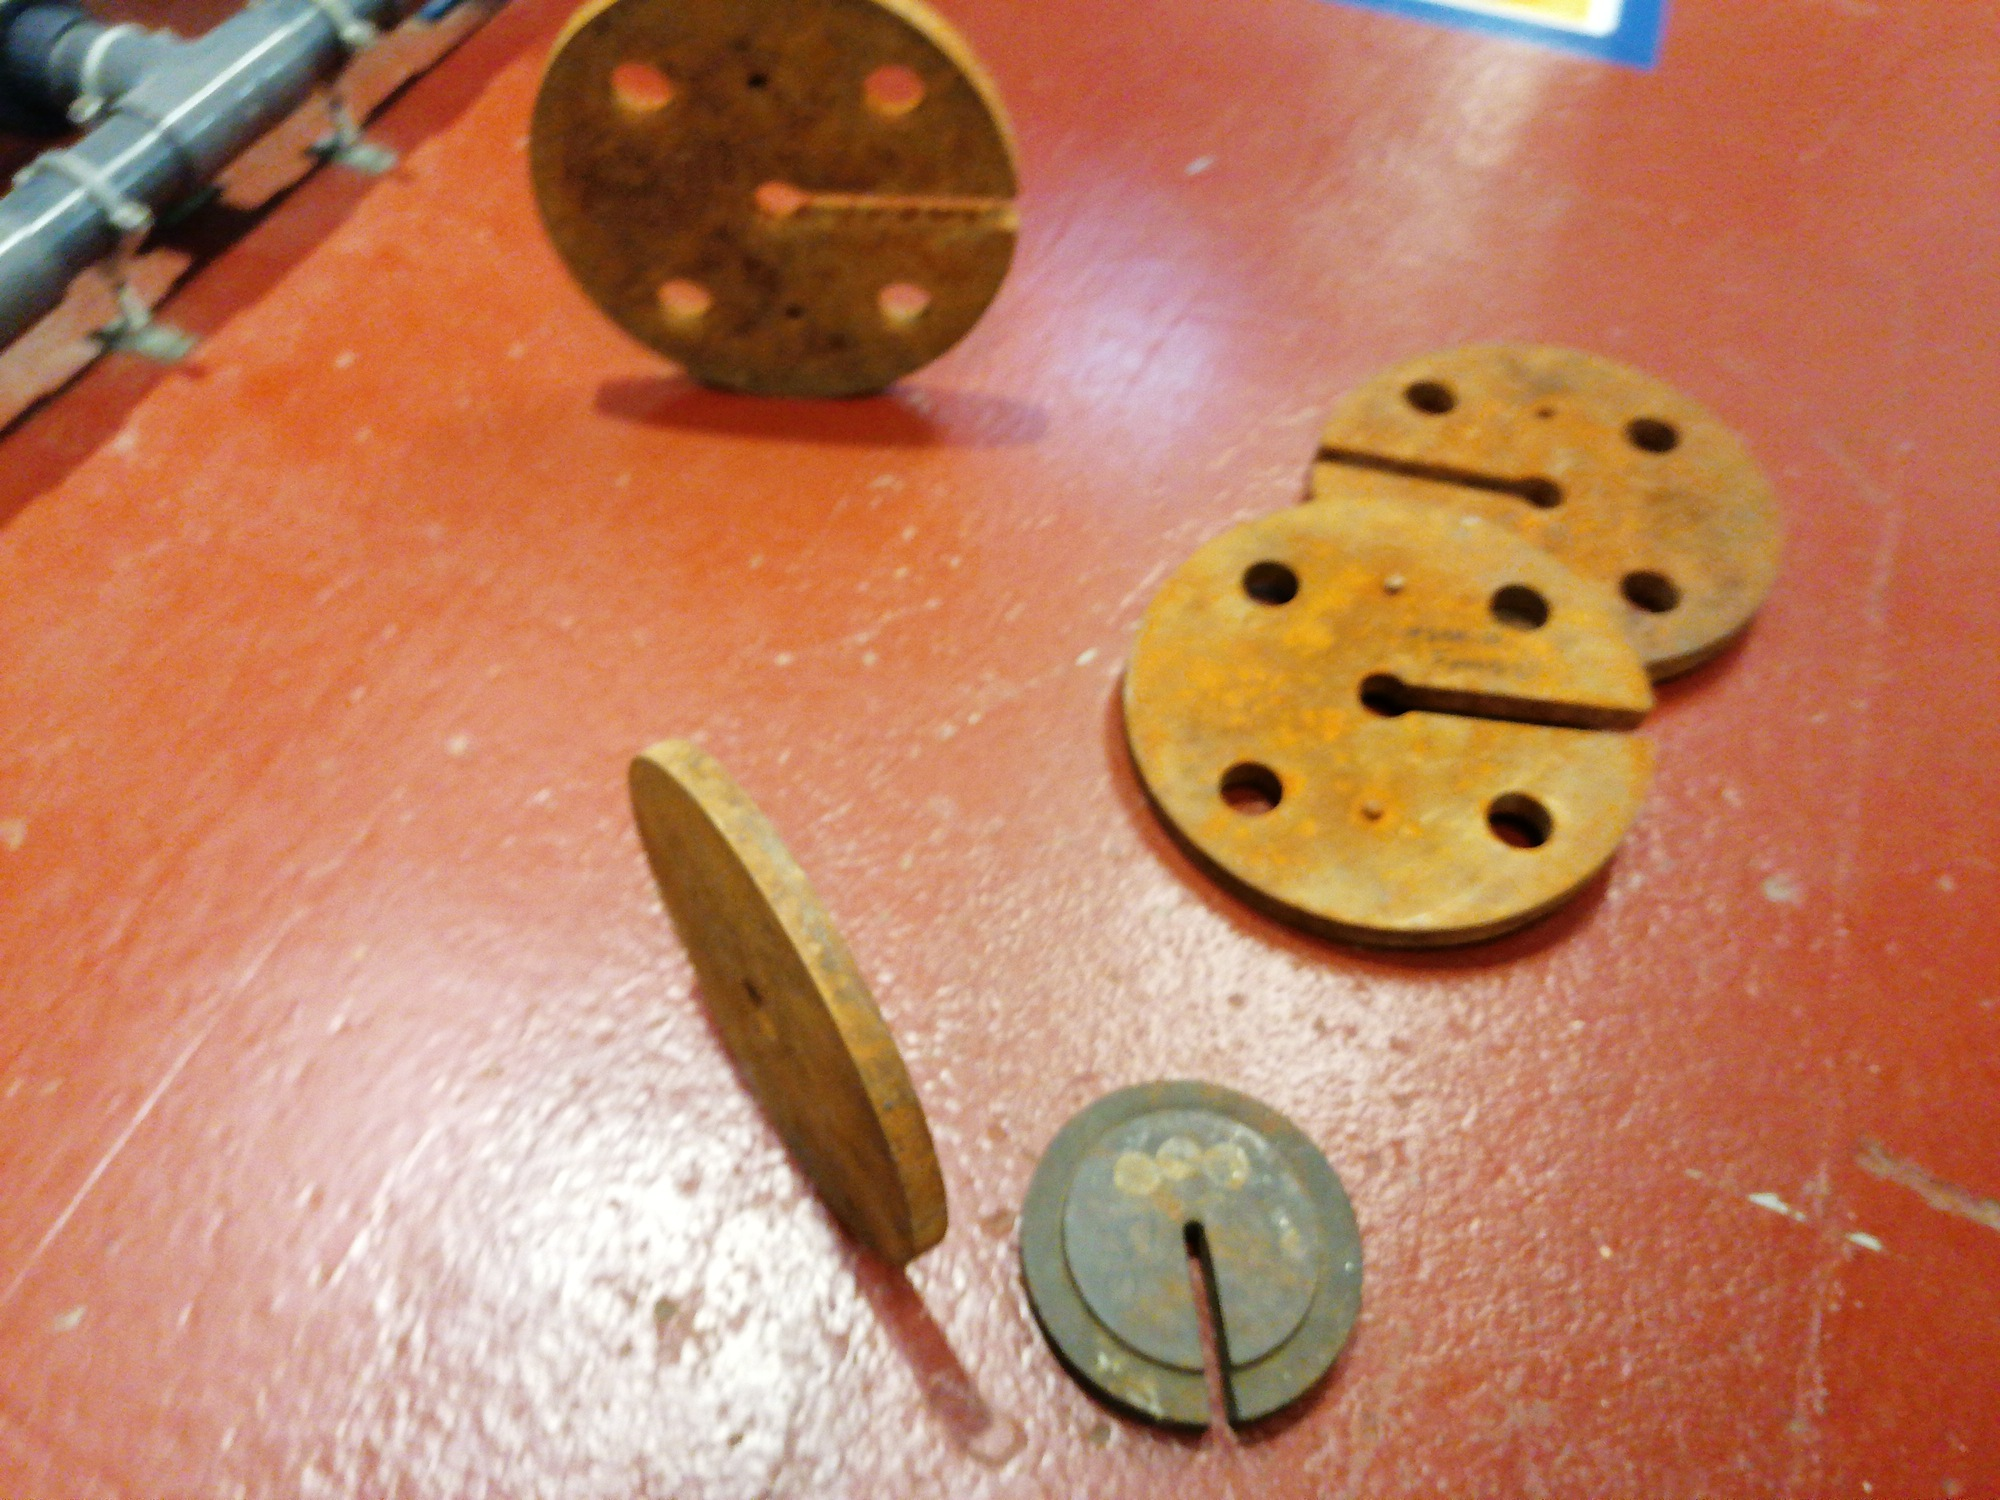flange: (1113, 498, 1654, 956), (526, 0, 1024, 402), (627, 736, 946, 1265), (1294, 340, 1784, 682), (1013, 1078, 1364, 1443)
